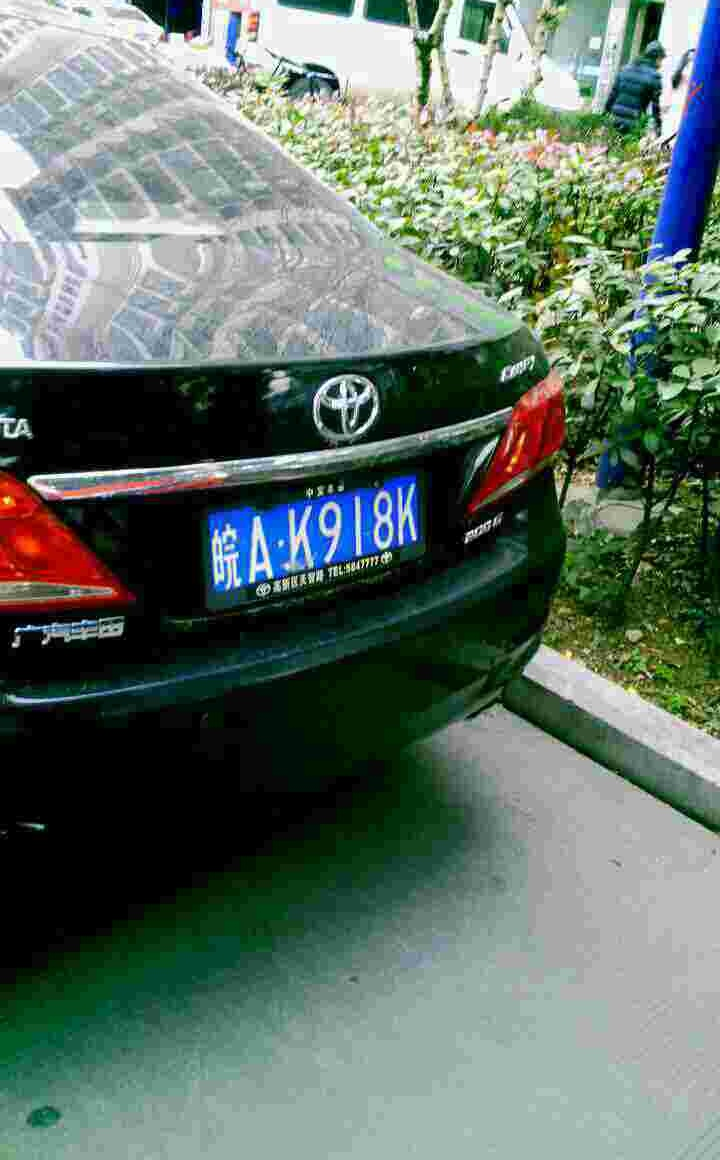license_plate: (207, 476, 423, 601)
